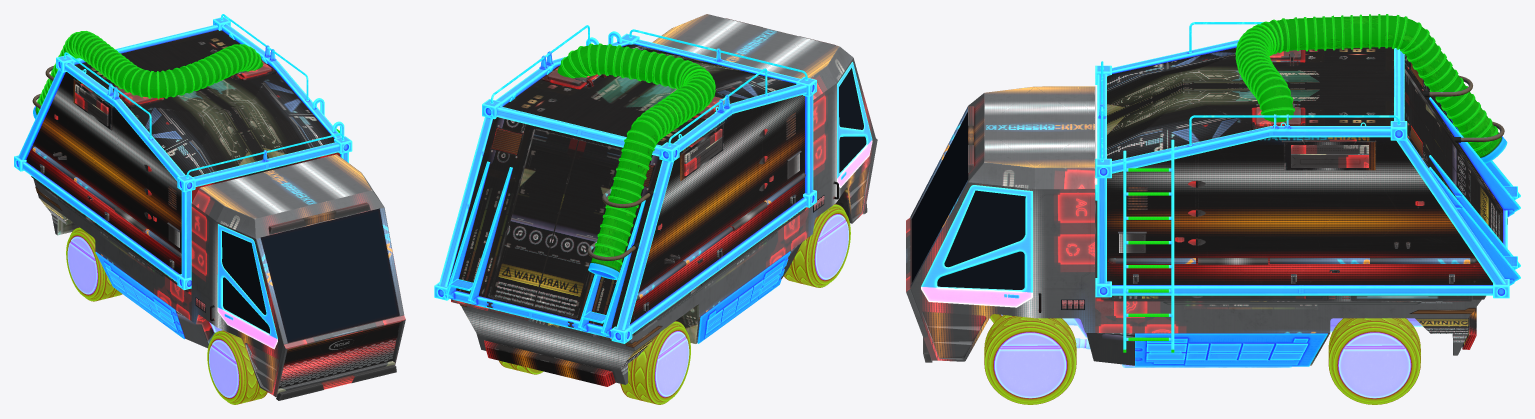
The model's file is SK_GarbageTruck_AsStaticMesh.fbx.
The picture shows the model from 3 angles, left to right: view 1: azimuth 30°, elevation 25°; view 2: azimuth 150°, elevation 25°; view 3: azimuth 270°, elevation 25°; orthographic projection. The views are drawn at different scales.
Parts seen in each view (by area): view 1: SK_GarbageTruck_AsStaticMesh_LOD0; view 2: SK_GarbageTruck_AsStaticMesh_LOD0; view 3: SK_GarbageTruck_AsStaticMesh_LOD0.
Part boxes in pixels (left/top/right/bottom): SK_GarbageTruck_AsStaticMesh_LOD0: left=14, top=14, right=405, bottom=404; SK_GarbageTruck_AsStaticMesh_LOD0: left=434, top=14, right=877, bottom=404; SK_GarbageTruck_AsStaticMesh_LOD0: left=906, top=14, right=1520, bottom=404.
Size of the model in its own units: 279 by 698 by 395.
